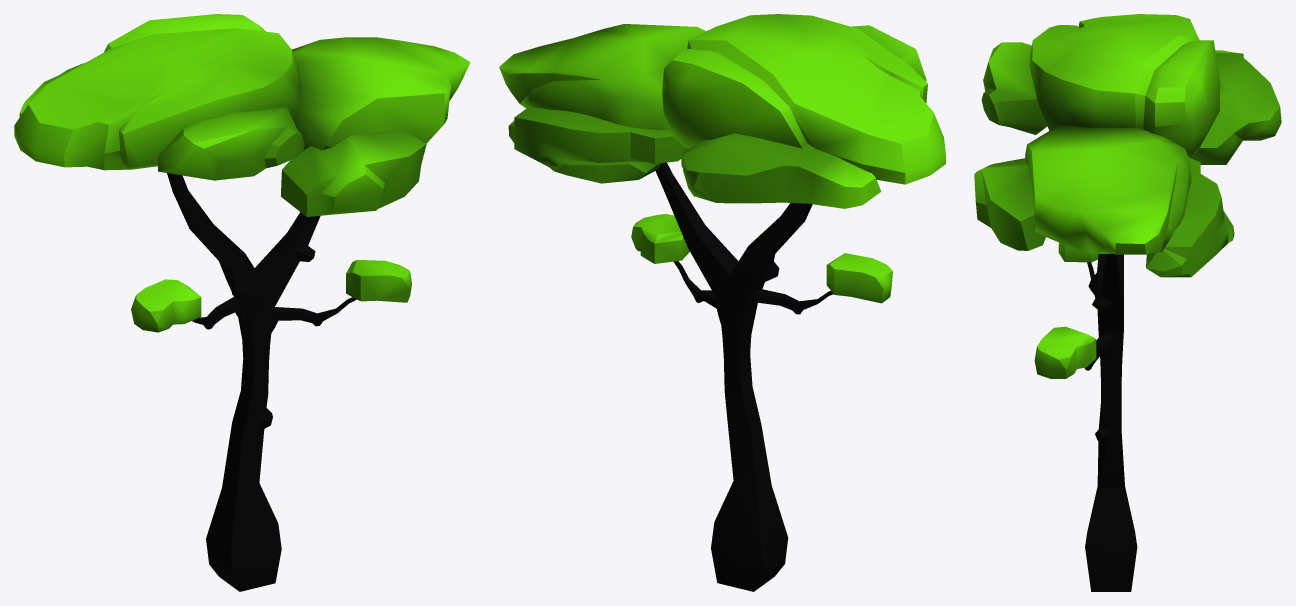
Rendered from FOL_Foliage_05.FBX.
The picture shows the model from 3 angles, left to right: view 1: azimuth 30°, elevation 25°; view 2: azimuth 150°, elevation 25°; view 3: azimuth 270°, elevation 25°; orthographic projection. The views are drawn at different scales.
Parts seen in each view (by area): view 1: FOL_Foliage_05; view 2: FOL_Foliage_05; view 3: FOL_Foliage_05.
Part boxes in pixels (x1,y1,x2,y2): FOL_Foliage_05: (14, 14, 470, 591); FOL_Foliage_05: (499, 14, 945, 591); FOL_Foliage_05: (974, 14, 1281, 591).
Bounding box in the file's own units: 0.0918 × 0.1728 × 0.1433.
